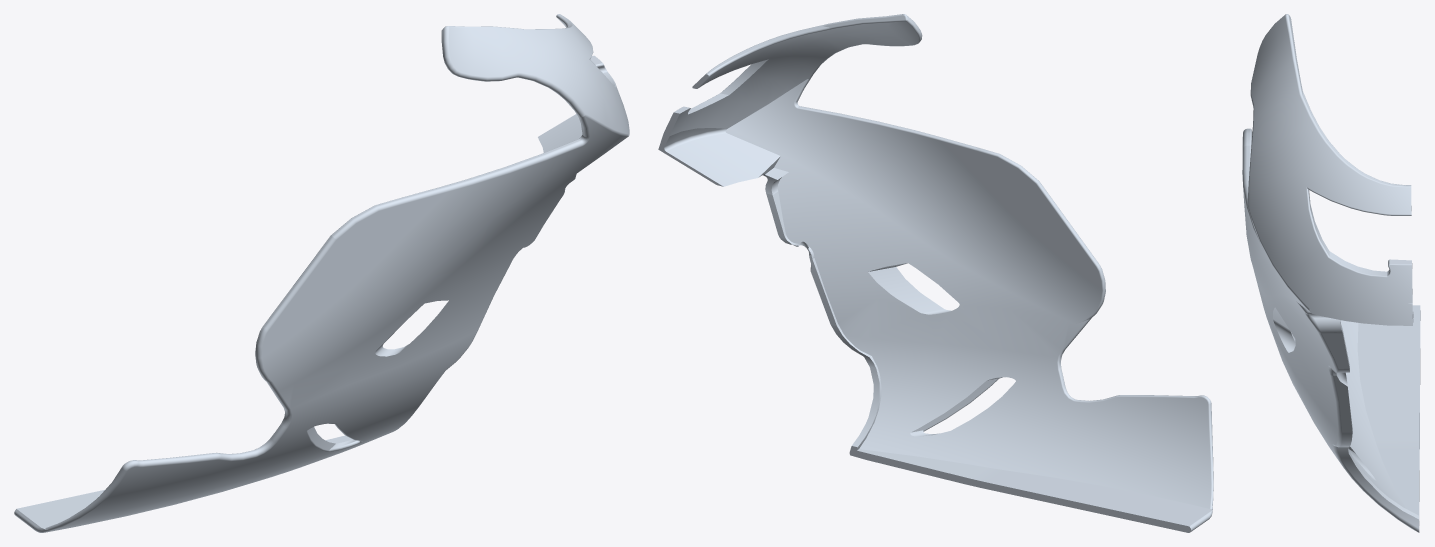
File: RB-046_viewer.glb
3 renders of one model, left to right at view 1: azimuth 30°, elevation 25°; view 2: azimuth 150°, elevation 25°; view 3: azimuth 270°, elevation 25°, orthographic. The views are drawn at different scales.
Parts seen in each view (by area): view 1: basebody_imported1; view 2: basebody_imported1; view 3: basebody_imported1.
Boxes of the visible parts, x1,y1,x2,y2 form: basebody_imported1: (14, 14, 629, 532); basebody_imported1: (658, 14, 1213, 532); basebody_imported1: (1242, 14, 1420, 532).
Bounding box in the file's own units: 0.0857 × 0.0619 × 0.0193.
